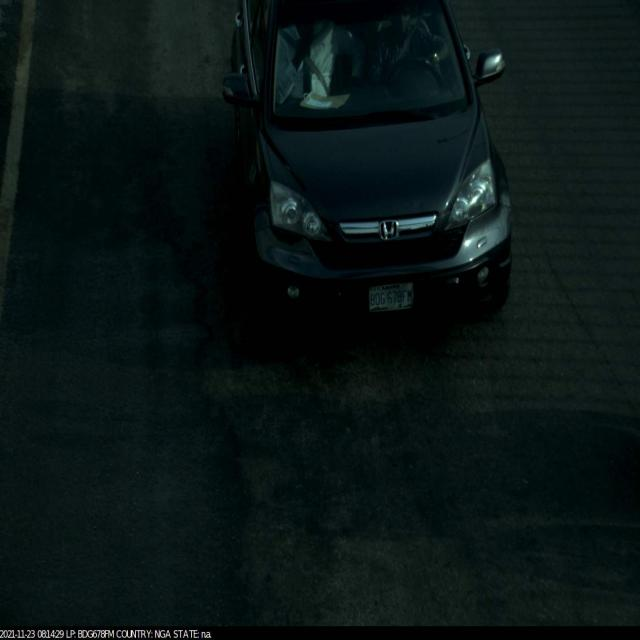windshield: (262, 0, 474, 143)
